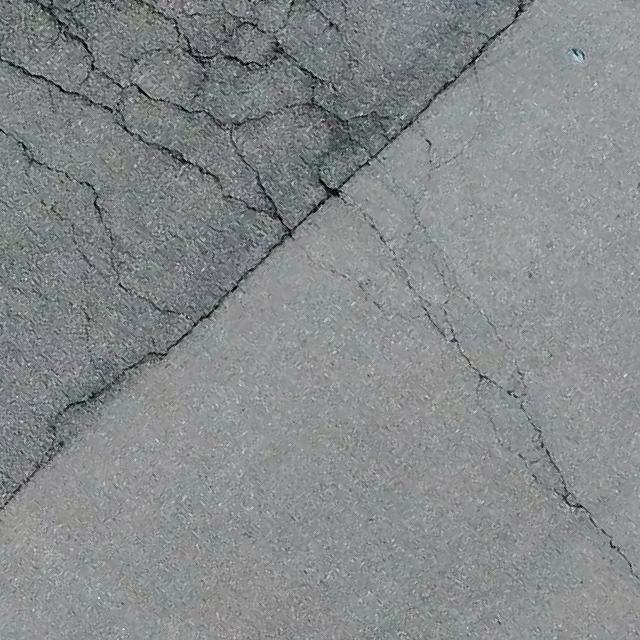GRIETA: (0, 0, 527, 513), (564, 501, 639, 579)
PIEL DE COCODRILO: (0, 0, 401, 384), (291, 108, 576, 507)
